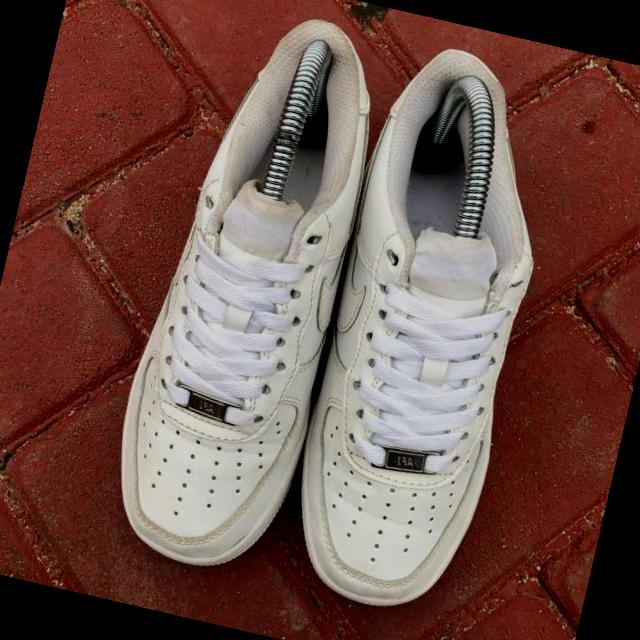nike_fake_airforce: (272, 31, 588, 622), (87, 0, 396, 581)
